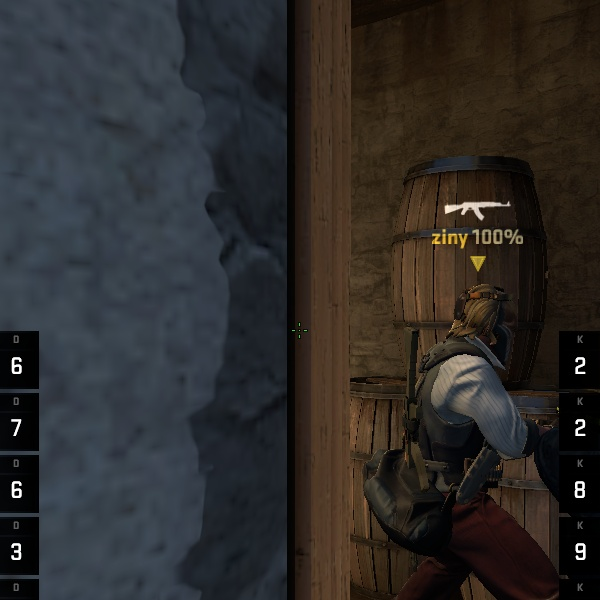t_body: (355, 276, 577, 600)
